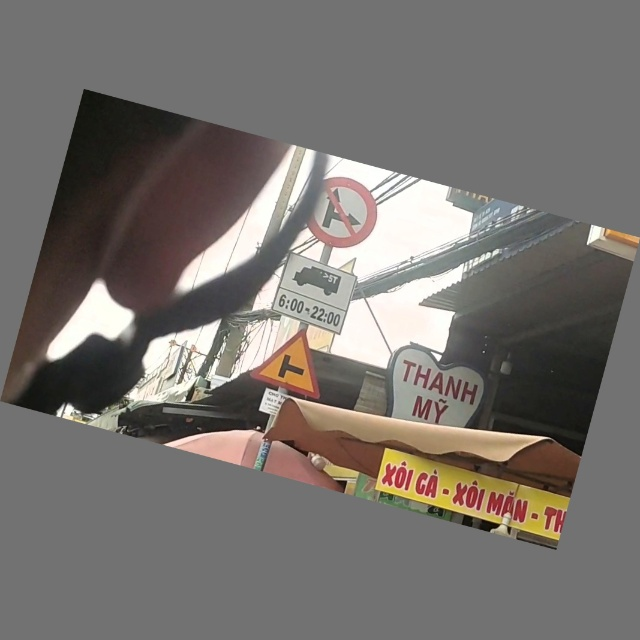P.139: (301, 171, 385, 257)
S.505a*Xe tai: (273, 254, 359, 333)
W.205b: (250, 316, 333, 397)
